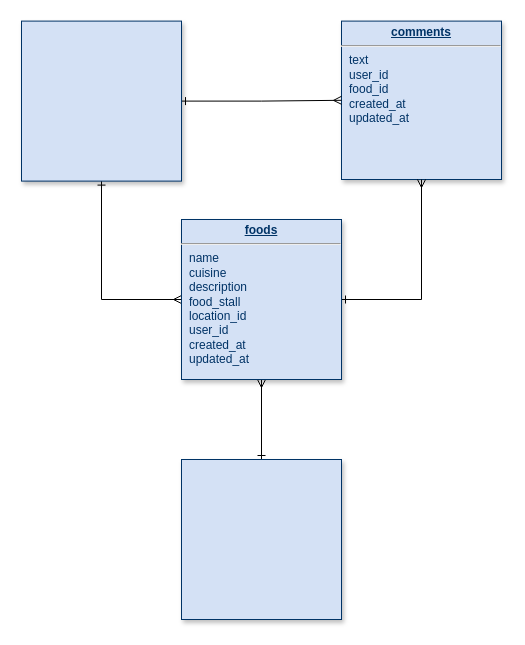
This 525x645 diagram has some shape labels left out. Each missing label, with the centre of its shape:
"locations name city admin_id? created_at updated_at" belongs at pixel 262 540.
"users Id username email password_digest created_at updated_at" belongs at pixel 102 102.
